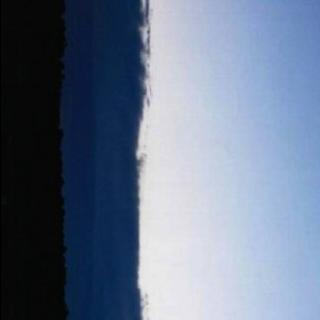Stratocumulus: (76, 0, 159, 320)
